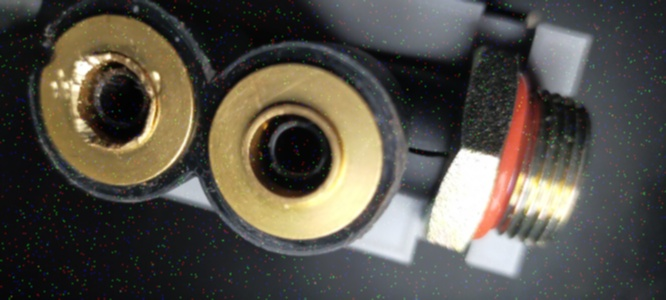bump: (35, 19, 66, 52)
craze: (410, 145, 449, 161)
off-centered: (263, 118, 332, 184)
